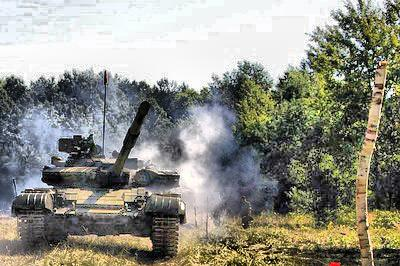tanks: (12, 103, 187, 260)
